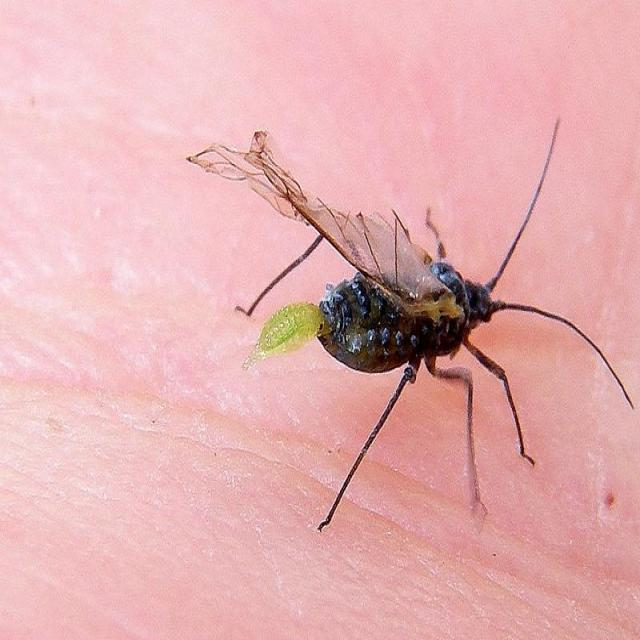Aphids: (193, 114, 637, 552)
